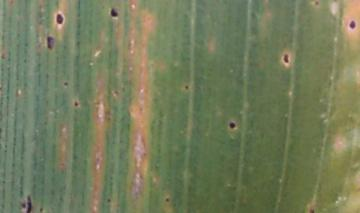tarspot: (20, 191, 37, 213), (52, 8, 68, 30), (41, 32, 58, 52), (279, 50, 293, 69), (105, 5, 121, 21), (226, 116, 239, 134), (346, 17, 359, 34), (71, 97, 82, 109), (182, 81, 193, 93), (103, 194, 114, 206), (61, 77, 71, 89), (306, 203, 318, 213), (311, 1, 325, 9), (162, 197, 173, 204)
